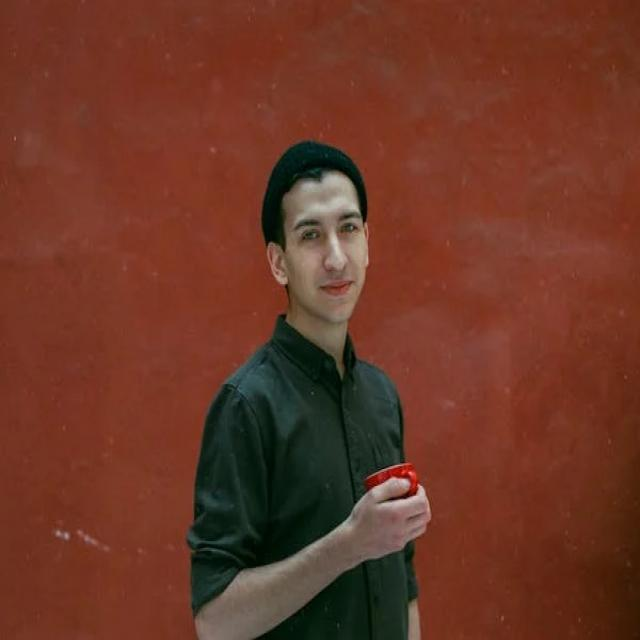Real human 2: (179, 120, 441, 640)
